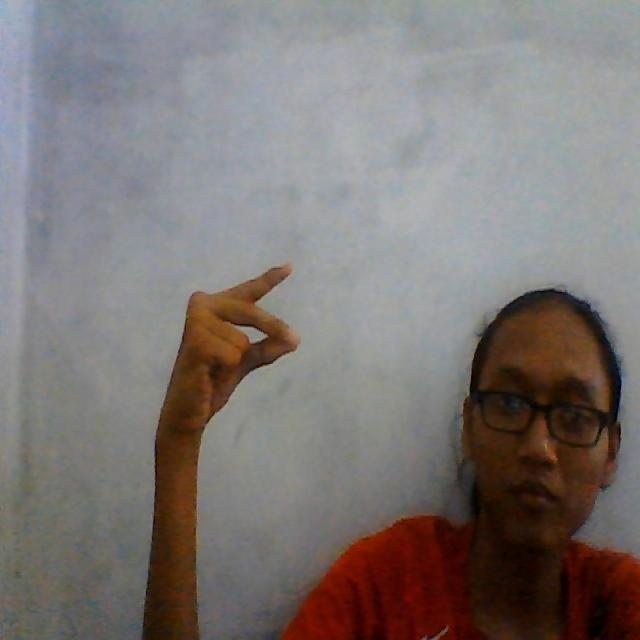R: (153, 248, 312, 420), (153, 250, 313, 420)
